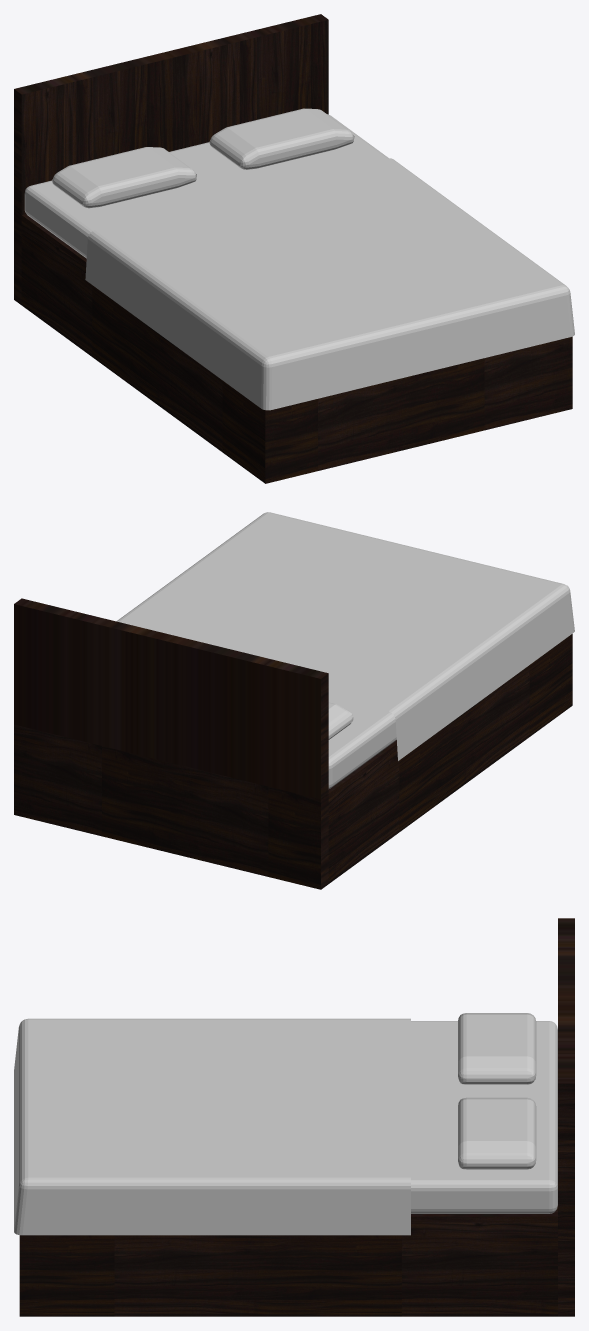
Rendered from Bed.fbx.
3 views of the same model, one above another, from view 1: azimuth 30°, elevation 25°; view 2: azimuth 150°, elevation 25°; view 3: azimuth 270°, elevation 25° (orthographic). The views are drawn at different scales.
Visible parts, largest first — view 1: Blanket, Base, Mattress, Pillow.002, Pillow.001; view 2: Base, Blanket, Mattress, Pillow.001; view 3: Blanket, Base, Mattress, Pillow.002, Pillow.001.
Boxes of the visible parts, left/top/right/bottom form: Blanket: left=85, top=158, right=574, bottom=410; Base: left=14, top=14, right=572, bottom=483; Mattress: left=24, top=114, right=388, bottom=258; Pillow.002: left=209, top=108, right=354, bottom=169; Pillow.001: left=52, top=147, right=196, bottom=208; Base: left=14, top=598, right=572, bottom=889; Blanket: left=116, top=512, right=574, bottom=760; Mattress: left=328, top=697, right=396, bottom=788; Pillow.001: left=328, top=702, right=353, bottom=739; Blanket: left=14, top=1018, right=410, bottom=1235; Base: left=19, top=918, right=574, bottom=1316; Mattress: left=411, top=1021, right=557, bottom=1213; Pillow.002: left=458, top=1097, right=536, bottom=1169; Pillow.001: left=458, top=1013, right=536, bottom=1084.
Size of the model in its own units: 1629 by 1050 by 2293.
